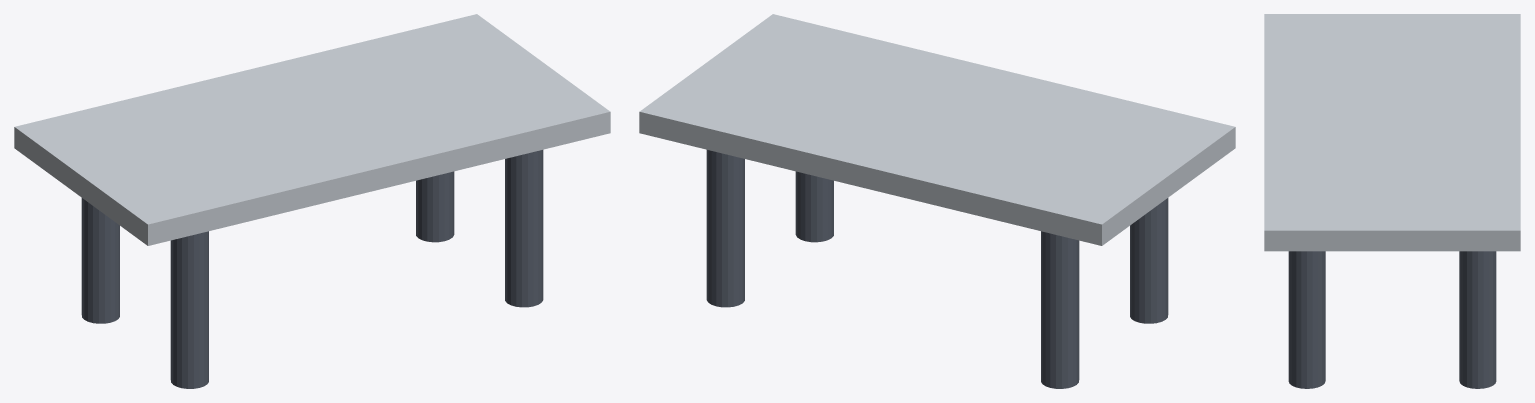
The model's file is optical-bench-reference.glb.
3 views of the same model, side by side, from view 1: azimuth 30°, elevation 25°; view 2: azimuth 150°, elevation 25°; view 3: azimuth 270°, elevation 25° (orthographic). The views are drawn at different scales.
Visible parts, largest first — view 1: silver perforated tabletop, black bench leg (×4); view 2: silver perforated tabletop, black bench leg (×4); view 3: silver perforated tabletop, black bench leg (×2).
Part boxes in pixels (bbox=[...]): silver perforated tabletop: bbox=[14, 14, 610, 245]; black bench leg (×4): bbox=[81, 150, 543, 388]; silver perforated tabletop: bbox=[639, 14, 1235, 245]; black bench leg (×4): bbox=[706, 150, 1168, 388]; silver perforated tabletop: bbox=[1264, 14, 1520, 251]; black bench leg (×2): bbox=[1288, 251, 1496, 388].
Bounding box in the file's own units: 1.8 × 0.7 × 0.9.
